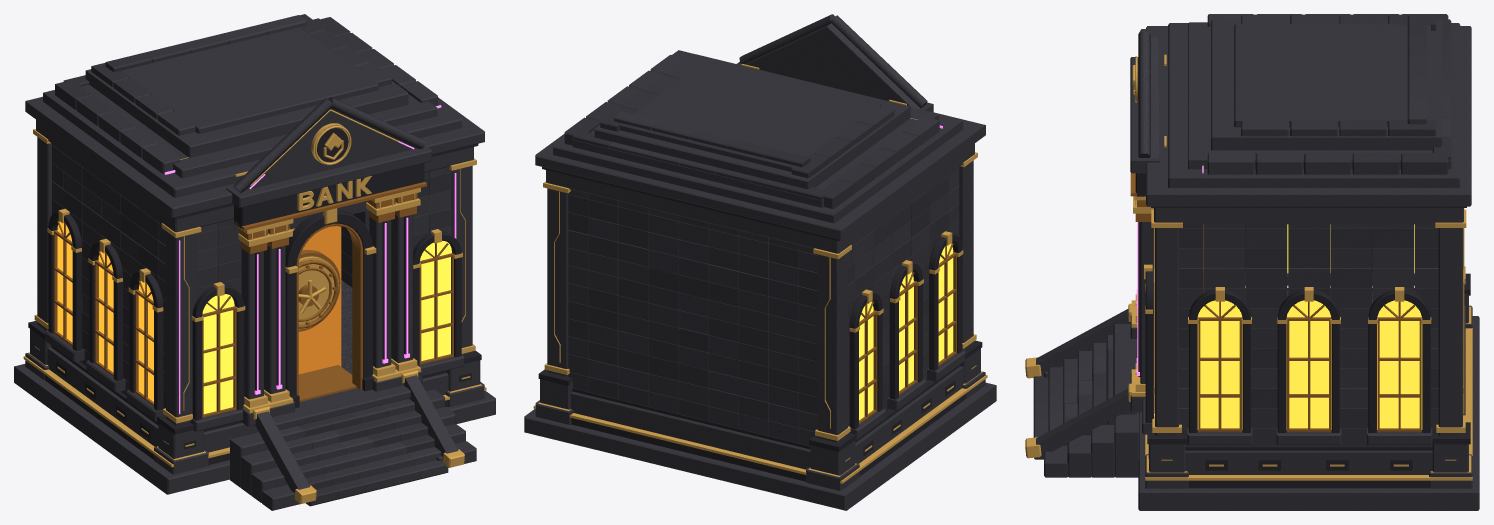
File: bank.glb
The picture shows the model from 3 angles, left to right: view 1: azimuth 30°, elevation 25°; view 2: azimuth 150°, elevation 25°; view 3: azimuth 270°, elevation 25°; orthographic projection. The views are drawn at different scales.
Visible parts, largest first — view 1: Structure / stone, Structure / dark, Structure / stone variant (×6), Windows / glass, Details / inner, Neon / neon; view 2: Structure / stone, Structure / stone variant (×6), Structure / dark, Windows / glass; view 3: Structure / stone, Structure / stone variant (×6), Structure / dark, Windows / glass.
Boxes of the visible parts, bbox=[...] form: Structure / stone: bbox=[14, 27, 495, 510]; Structure / dark: bbox=[23, 109, 486, 504]; Structure / stone variant (×6): bbox=[52, 14, 451, 506]; Windows / glass: bbox=[57, 221, 451, 413]; Details / inner: bbox=[291, 226, 341, 374]; Neon / neon: bbox=[164, 105, 456, 413]; Structure / stone: bbox=[524, 14, 996, 510]; Structure / stone variant (×6): bbox=[564, 55, 959, 445]; Structure / dark: bbox=[533, 64, 987, 483]; Windows / glass: bbox=[859, 243, 953, 420]; Structure / stone: bbox=[1036, 19, 1479, 510]; Structure / stone variant (×6): bbox=[1033, 14, 1451, 459]; Structure / dark: bbox=[1025, 54, 1472, 488]; Windows / glass: bbox=[1154, 224, 1422, 429].
Size of the model in its own units: 11.79 by 12.17 by 12.78.
11 materials, 11 textured.
